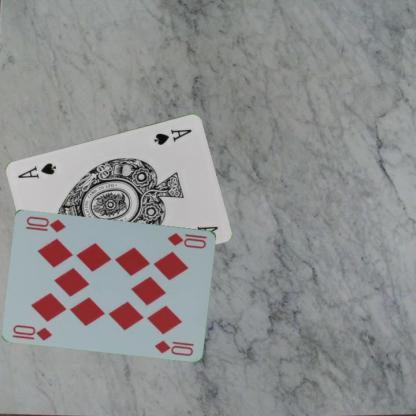10d: (165, 230, 209, 250), (9, 322, 53, 342)
As: (151, 126, 193, 146)
